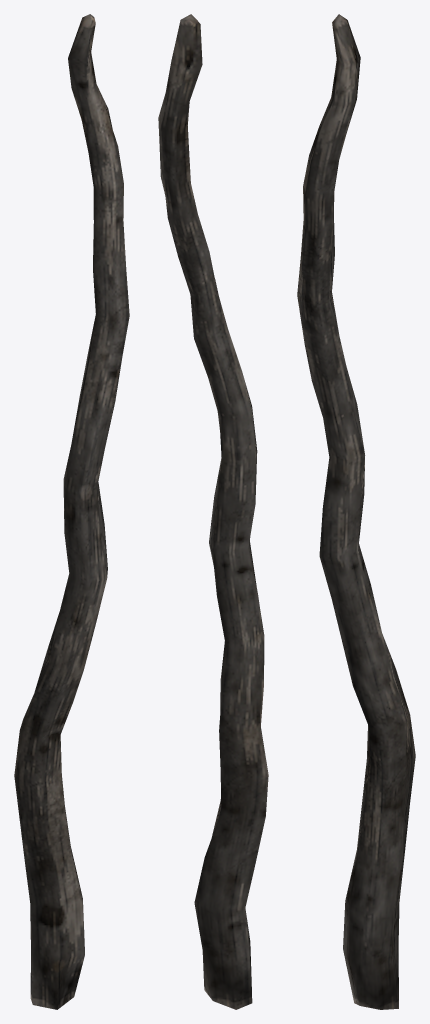
The model's file is SM_Single_Twig_D.fbx.
3 views of the same model, side by side, from view 1: azimuth 90°, elevation 25°; view 2: azimuth 210°, elevation 25°; view 3: azimuth 270°, elevation 25° (orthographic). The views are drawn at different scales.
Visible parts, largest first — view 1: SM_Single_Twig_D_LOD0; view 2: SM_Single_Twig_D_LOD0; view 3: SM_Single_Twig_D_LOD0.
Part boxes in pixels (x1=…): SM_Single_Twig_D_LOD0: x1=14, y1=14, x2=129, y2=1009; SM_Single_Twig_D_LOD0: x1=158, y1=14, x2=268, y2=1009; SM_Single_Twig_D_LOD0: x1=297, y1=14, x2=415, y2=1009.
Size of the model in its own units: 10.83 by 12.07 by 113.
Materials: 1 (1 with a texture image).
